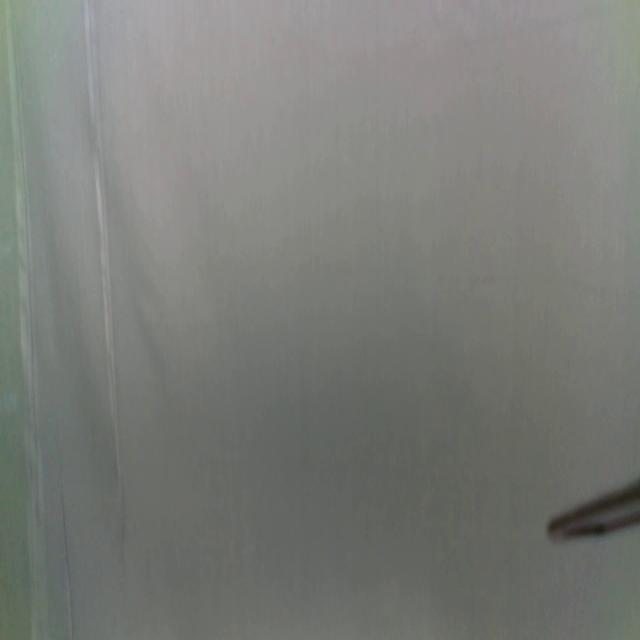crease: (8, 0, 42, 640), (86, 0, 124, 494), (60, 464, 74, 637)
